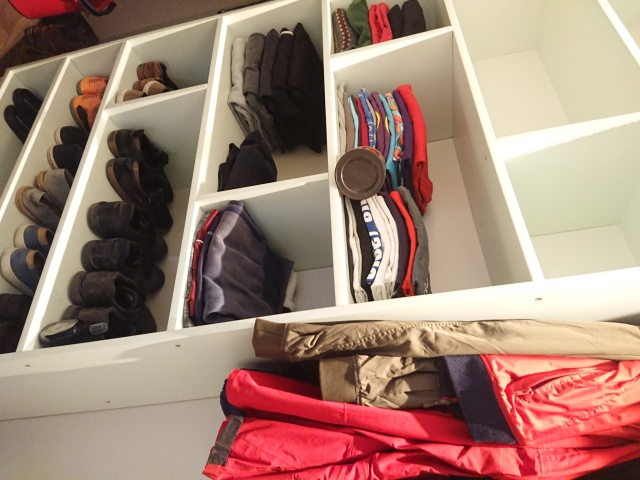Nescafe Classic 225g: (332, 143, 389, 203)
